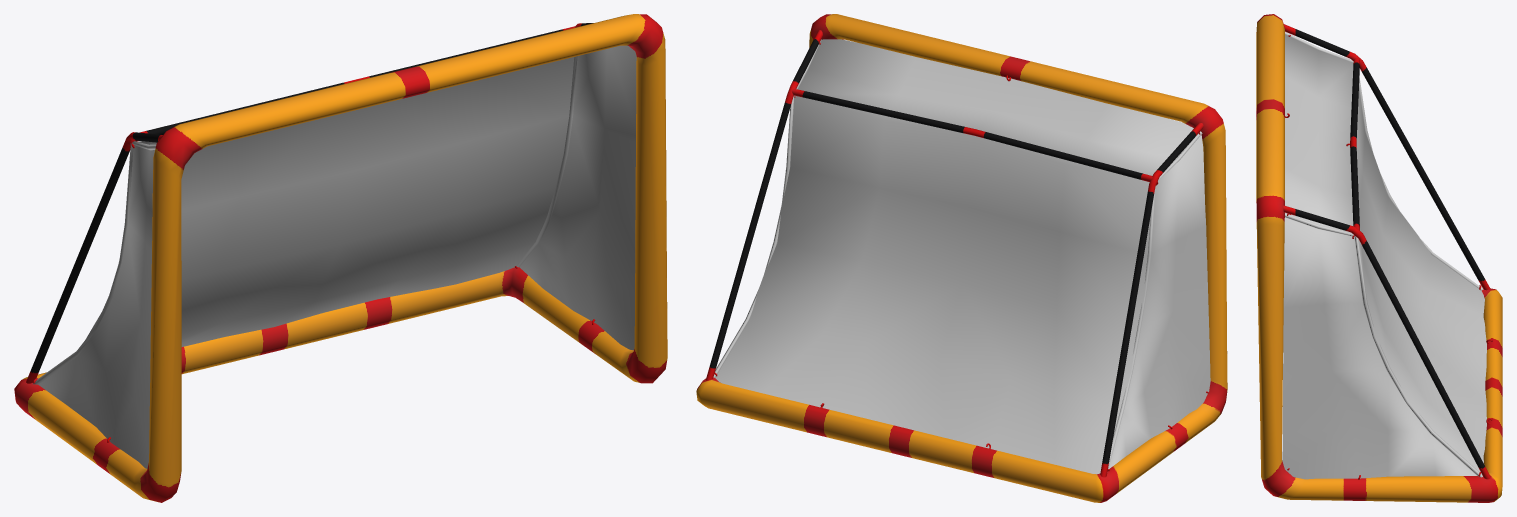
The model's file is Soccergoal.fbx.
3 renders of one model, left to right at view 1: azimuth 30°, elevation 25°; view 2: azimuth 150°, elevation 25°; view 3: azimuth 270°, elevation 25°, orthographic. The views are drawn at different scales.
Visible parts, largest first — view 1: goalsoccer; view 2: goalsoccer; view 3: goalsoccer.
Part boxes in pixels (bbox=[...]): goalsoccer: bbox=[14, 14, 667, 502]; goalsoccer: bbox=[696, 14, 1227, 502]; goalsoccer: bbox=[1256, 14, 1502, 502].
Bounding box in the file's own units: 2.13 × 1.1 × 1.5.
